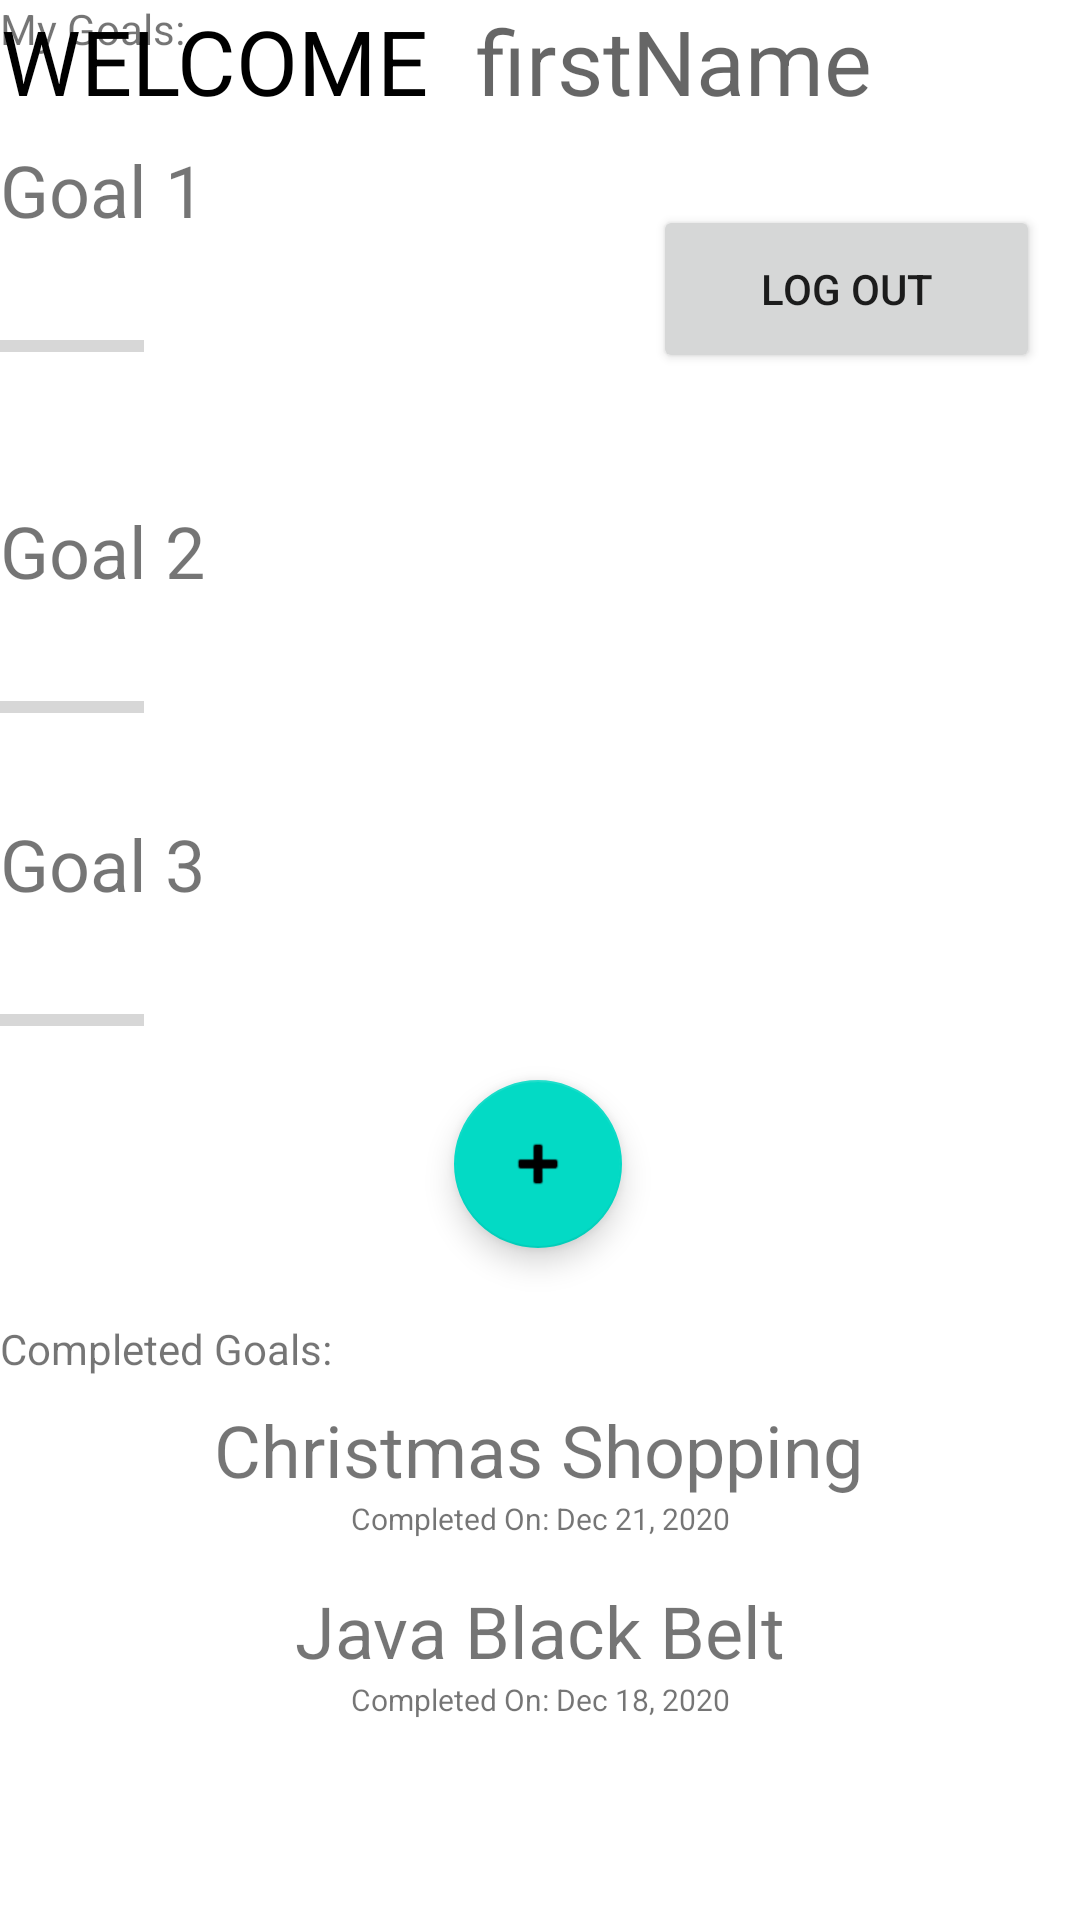

Where icons sit on this 1080x1920 app screen, as (x1, y1, x2, y2):
add: (454, 1080, 622, 1248)
